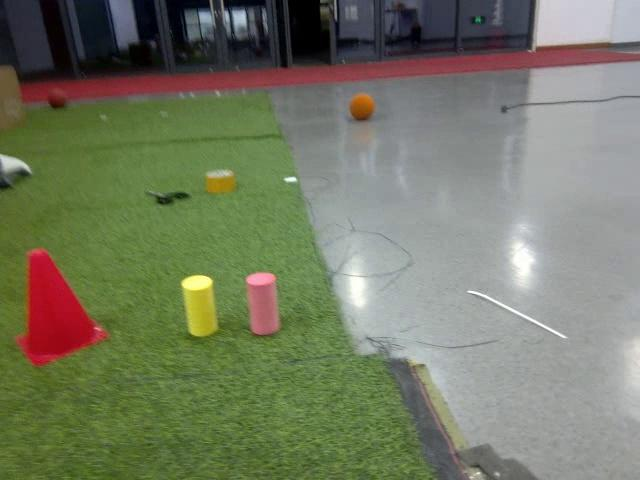orange_ball: (346, 93, 376, 122)
red_barrel: (12, 242, 111, 367)
red_cylinder: (246, 270, 280, 339)
yellow_cylinder: (180, 273, 218, 337)
